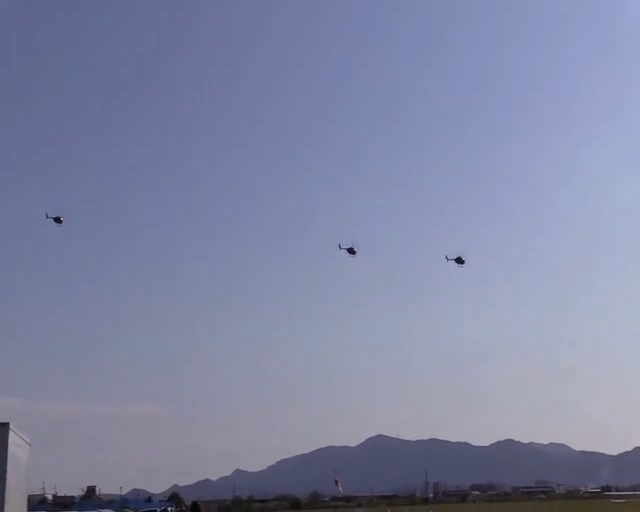HELICOPTER: (444, 253, 465, 267)
